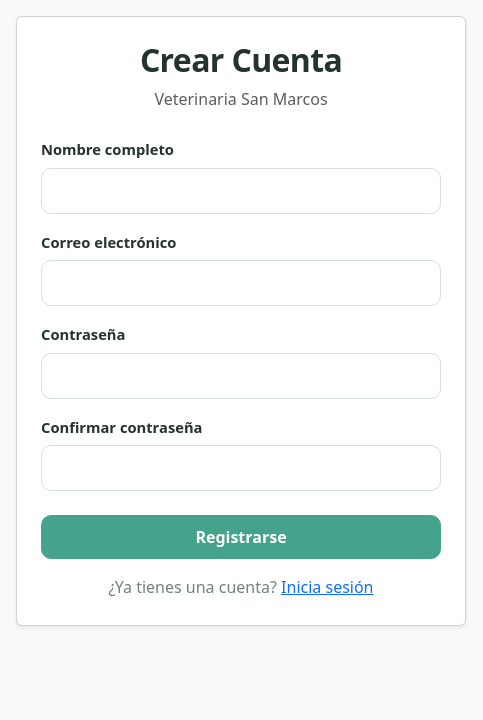
Test: RegistroPage › rechaza una contraseña de menos de 4 caracteres
Step 1. Type "Ana Pérez" into the field labelled "Nombre completo" → x=241, y=190, box x1=41 y1=168 x2=441 y2=214
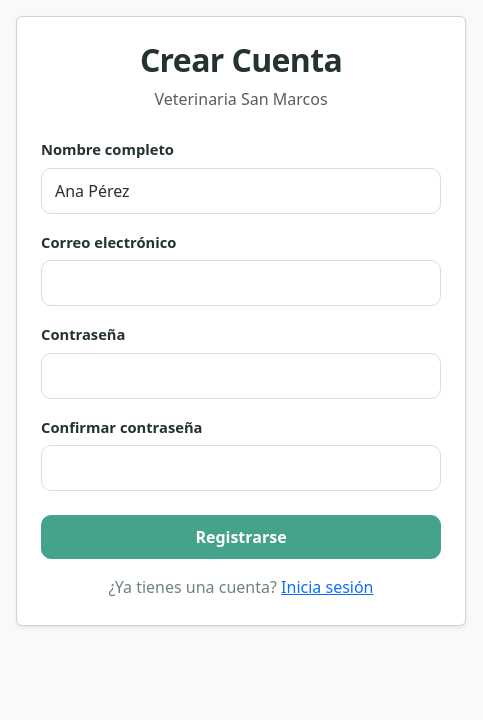
Step 2. Type "ana@correo.cl" into the field labelled "Correo electrónico" → x=241, y=283, box x1=41 y1=260 x2=441 y2=306
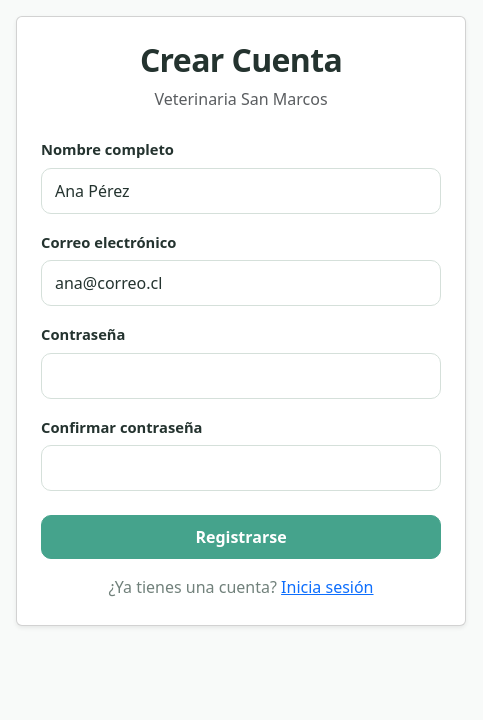
Step 3. Type "abc" into the password field labelled "Contraseña" → x=241, y=376, box x1=41 y1=353 x2=441 y2=399
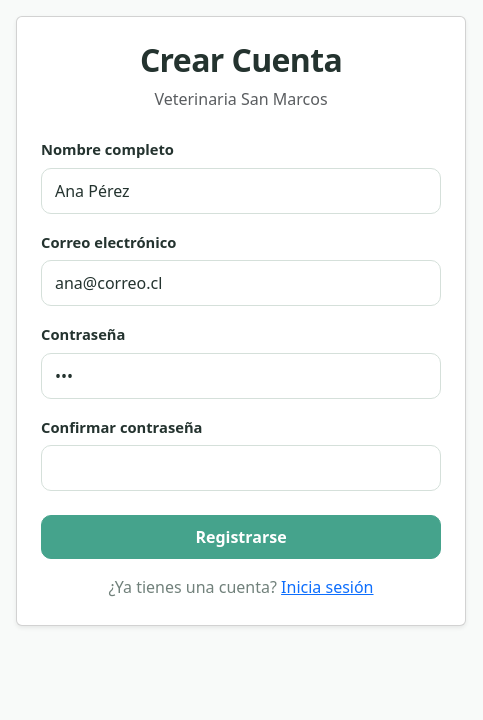
Step 4. Type "abc" into the password field labelled "Confirmar contraseña" → x=241, y=468, box x1=41 y1=445 x2=441 y2=491
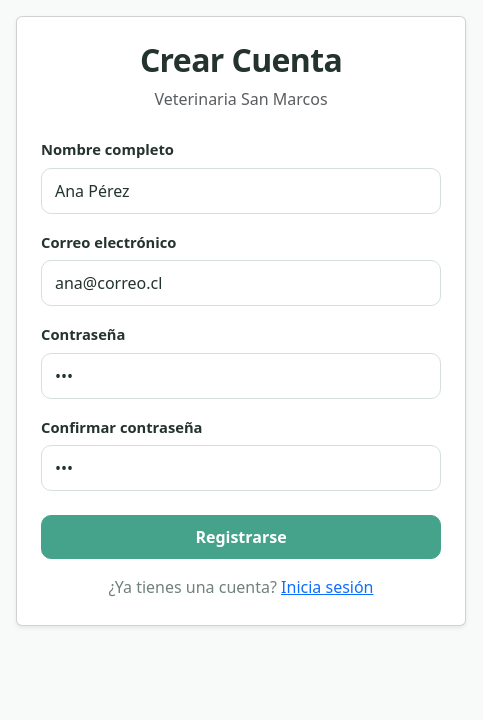
Step 5. Click the button "Registrarse" → x=241, y=537, box x1=41 y1=515 x2=441 y2=559
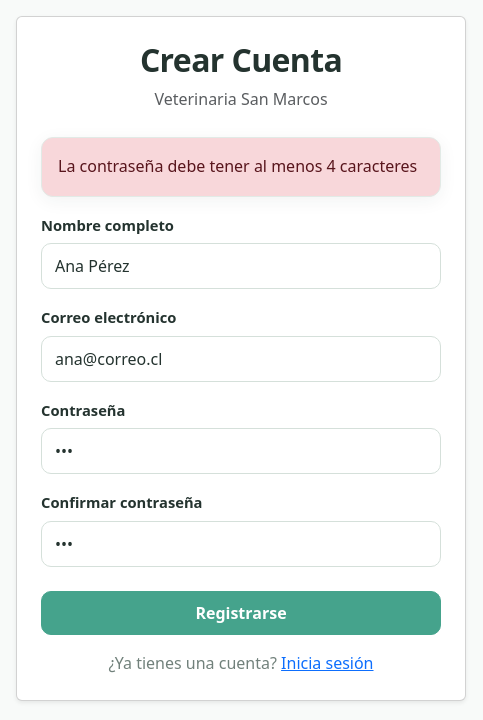
Expected: the message shows "al menos 4 caracteres", x1=58 y1=155 x2=417 y2=177
